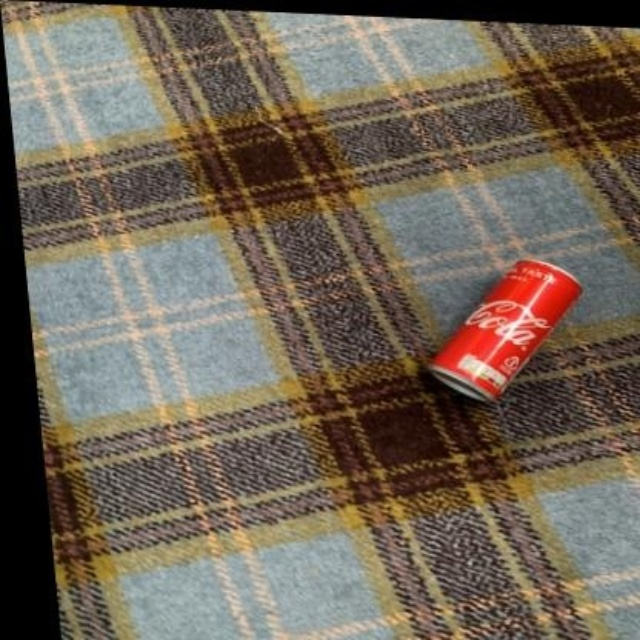trash: (429, 260, 580, 400)
